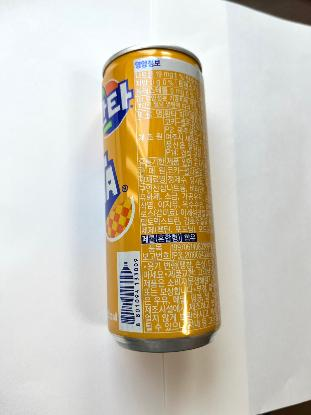Can: (101, 40, 226, 358)
